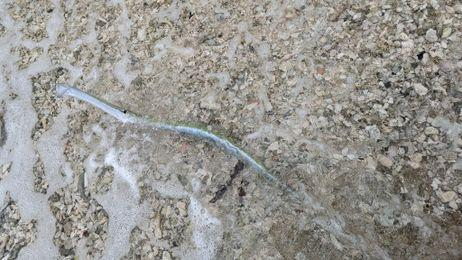Fistularia commersonii: (29, 75, 302, 201)
